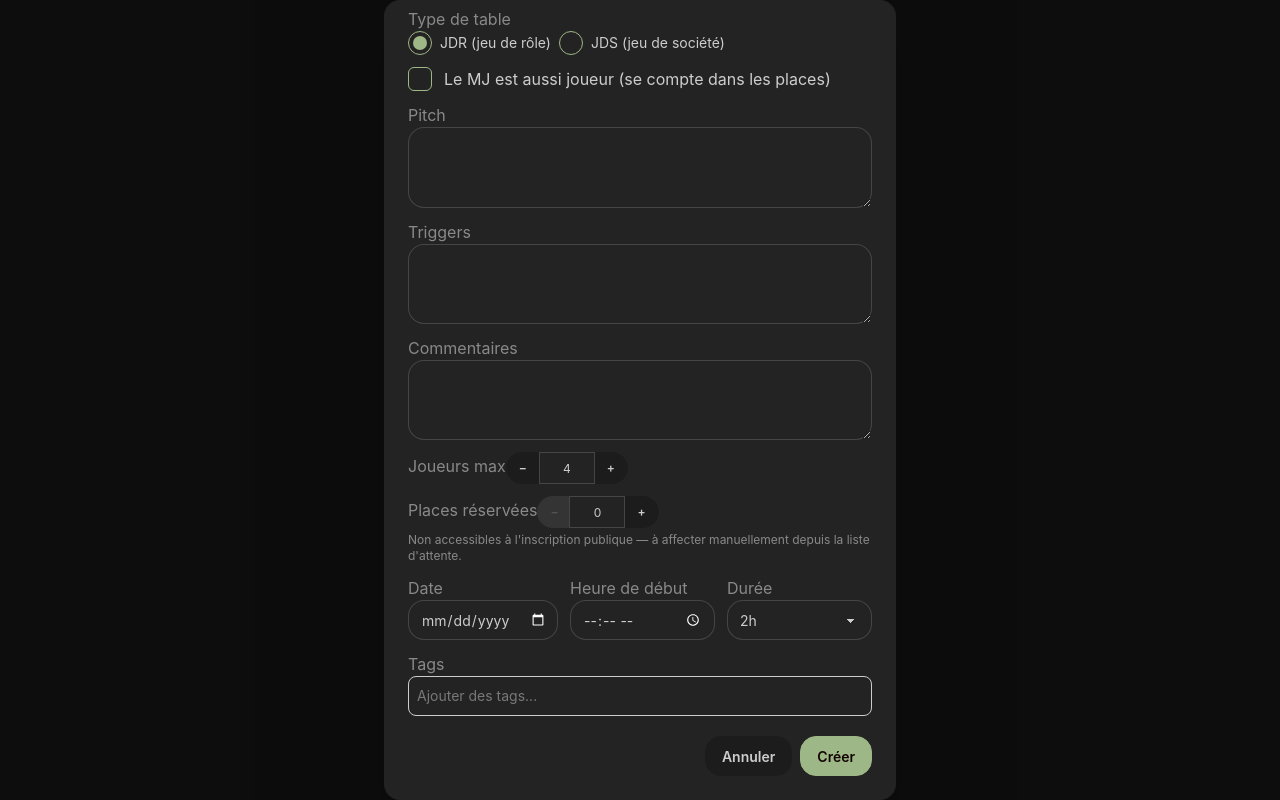
Test: CreateTableModal › shows validation errors when submitting an empty form
(page scrolled)
Click the button "Créer" at (836, 756), box top-left (800, 736), bottom-right (872, 776)
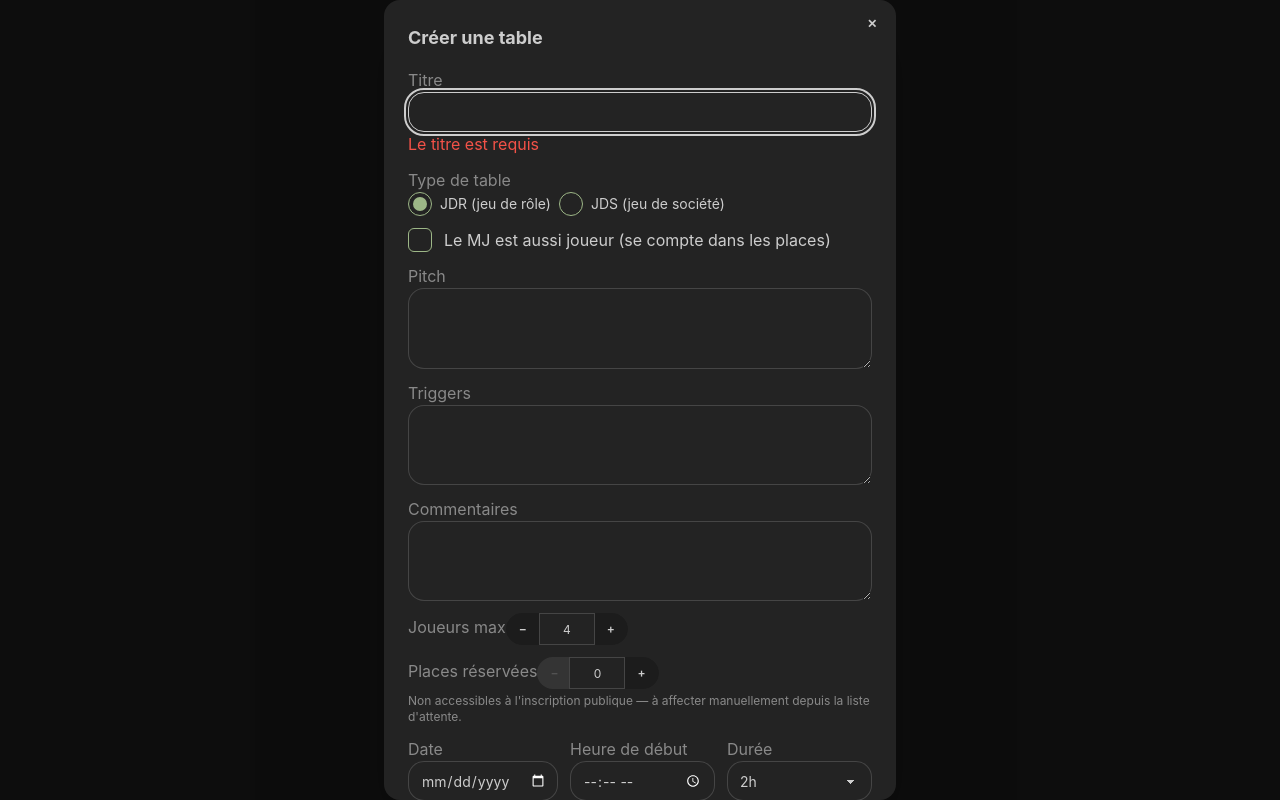
Now the text "Le titre est requis" is shown, box top-left (408, 132), bottom-right (539, 156)
